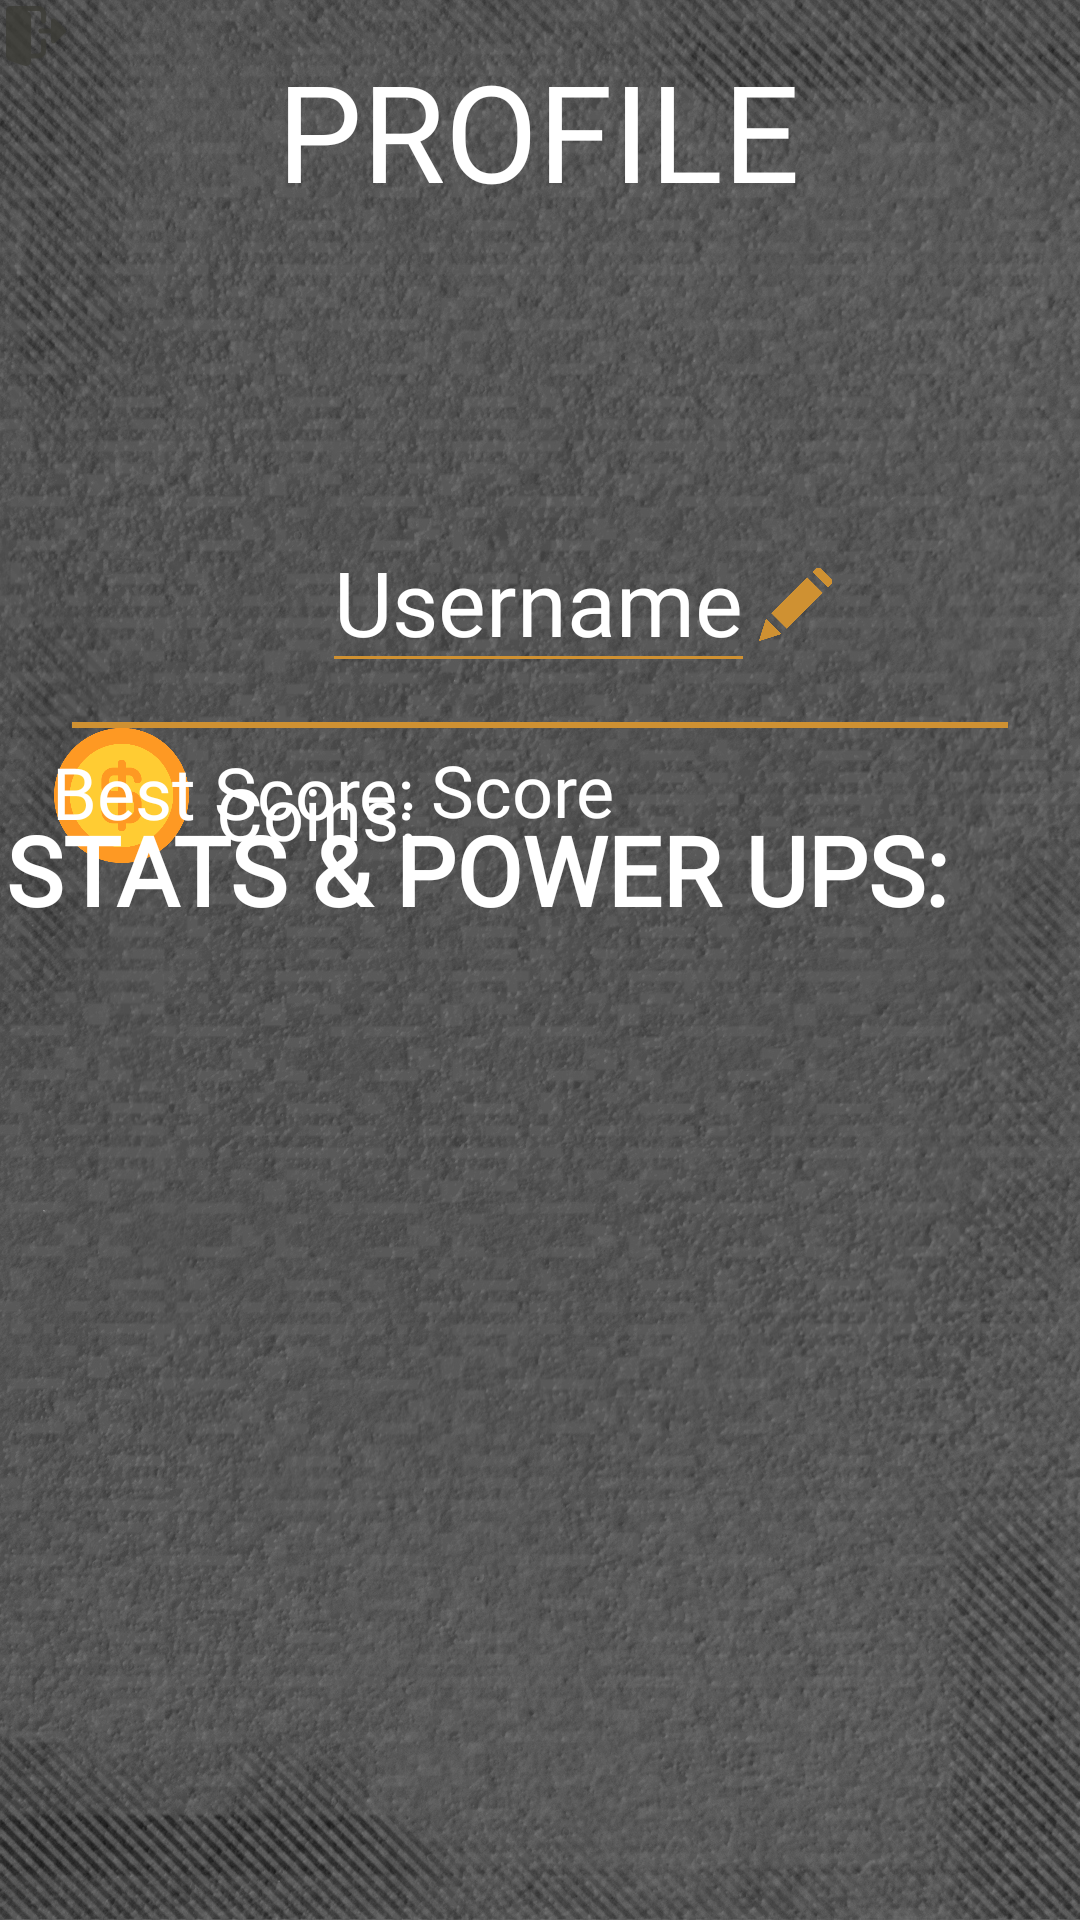

Locate icon controls on the screen. Image size 1080w x 1920h, boxes as (x1, y1, x2, y2).
pencil: (759, 568, 832, 641)
